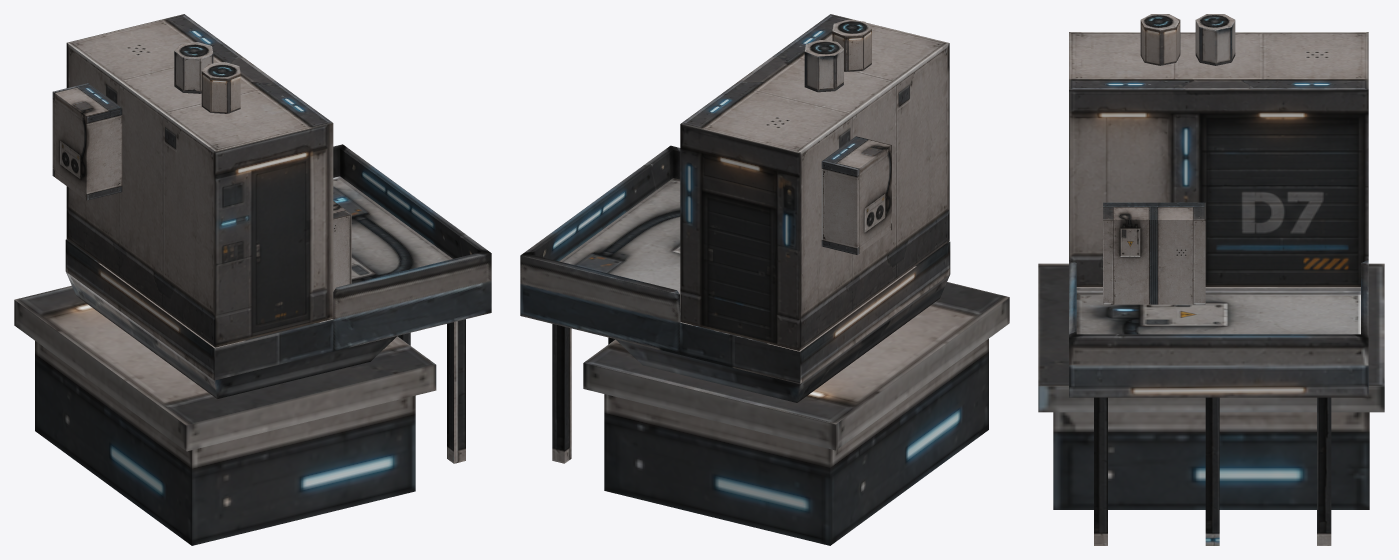
File: Building-03.fbx
3 renders of one model, left to right at view 1: azimuth 30°, elevation 25°; view 2: azimuth 150°, elevation 25°; view 3: azimuth 270°, elevation 25°, orthographic.
Visible parts, largest first — view 1: pCube27.001, pCube30.001, polySurface20.001, pCube31.001, polySurface21.001, pCube32.001, pCylinder2.001, pCylinder3.001, pCube29.001; view 2: pCube27.001, pCube30.001, polySurface20.001, pCube31.001, polySurface21.001, pCube34.001, pCylinder3.001, pCylinder2.001; view 3: pCube27.001, pCube30.001, polySurface20.001, pCube29.001, pCube33.001, pCube34.001, pCube32.001, pCylinder3.001, pCylinder2.001.
Boxes of the visible parts, <box> form: pCube27.001: <box>66,14,333,347</box>; pCube30.001: <box>14,285,436,545</box>; polySurface20.001: <box>65,144,491,380</box>; pCube31.001: <box>52,83,122,200</box>; polySurface21.001: <box>66,272,396,398</box>; pCube32.001: <box>447,319,465,463</box>; pCylinder2.001: <box>201,62,240,113</box>; pCylinder3.001: <box>174,42,213,93</box>; pCube29.001: <box>333,201,351,291</box>; pCube27.001: <box>680,14,949,350</box>; pCube30.001: <box>583,282,1009,545</box>; polySurface20.001: <box>520,145,950,383</box>; pCube31.001: <box>821,136,891,254</box>; polySurface21.001: <box>615,274,949,402</box>; pCube34.001: <box>552,324,571,463</box>; pCylinder3.001: <box>804,40,843,92</box>; pCylinder2.001: <box>832,19,871,71</box>; pCube27.001: <box>1069,32,1368,286</box>; pCube30.001: <box>1038,263,1384,509</box>; polySurface20.001: <box>1069,260,1368,397</box>; pCube29.001: <box>1103,202,1205,304</box>; pCube33.001: <box>1205,397,1219,545</box>; pCube34.001: <box>1317,397,1331,545</box>; pCube32.001: <box>1094,397,1107,545</box>; pCylinder3.001: <box>1195,14,1235,65</box>; pCylinder2.001: <box>1140,14,1180,65</box>.
Bounding box in the file's own units: 366 × 456 × 341.
1 material, 1 textured.
